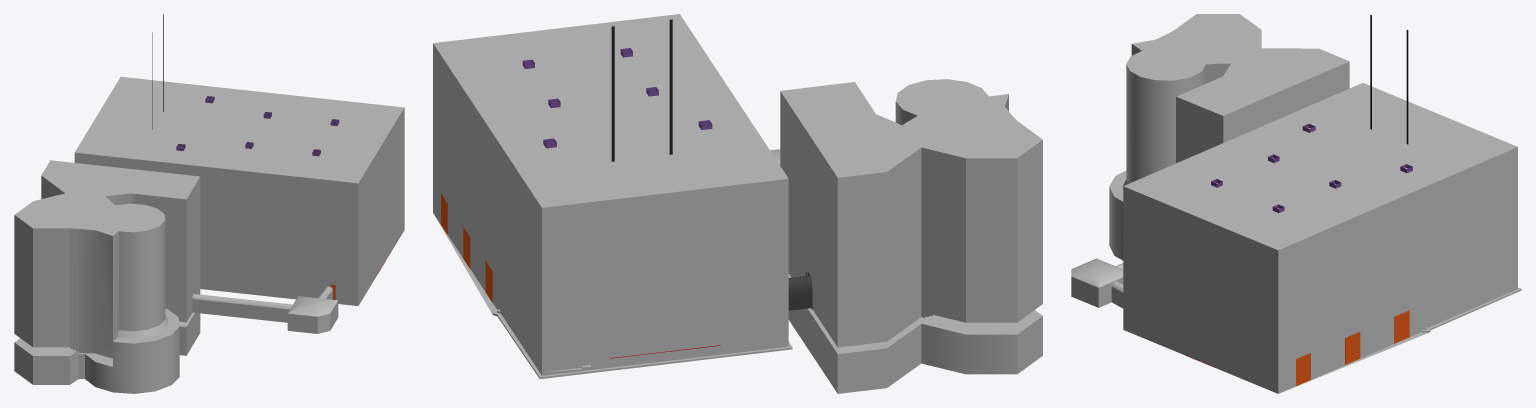
The model's file is all_rooms_merged.fbx.
The picture shows the model from 3 angles, left to right: view 1: azimuth 30°, elevation 25°; view 2: azimuth 150°, elevation 25°; view 3: azimuth 270°, elevation 25°; orthographic projection. The views are drawn at different scales.
Visible parts, largest first — view 1: chamber.001; view 2: chamber.001, Cone, Cone.001; view 3: chamber.001, chamber.010, chamber.009, chamber.008.
Boxes of the visible parts, box(x1,y1,x2,y2) form: chamber.001: box(14, 76, 404, 393); chamber.001: box(433, 14, 1042, 393); Cone: box(669, 19, 672, 154); Cone.001: box(611, 26, 614, 161); chamber.001: box(1071, 14, 1521, 393); chamber.010: box(1394, 310, 1409, 343); chamber.009: box(1345, 332, 1360, 364); chamber.008: box(1296, 353, 1310, 386).
Size of the model in its own units: 5061 by 2981 by 4155.
